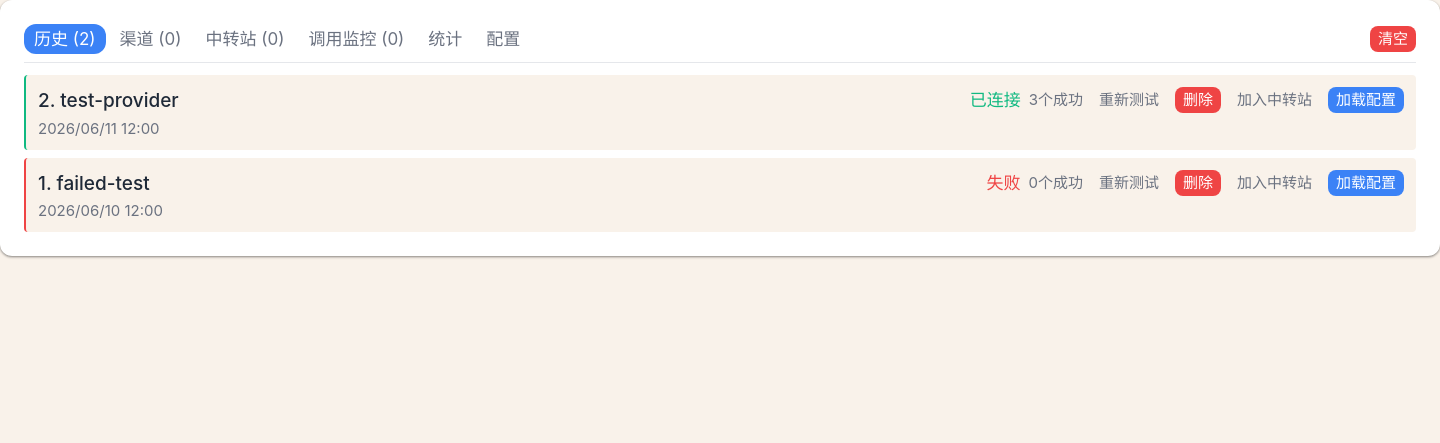
HistoryPanel › switches to the relay tab
Click the button "中转站 (0)" at {"x": 245, "y": 39}, box top-left (196, 24), bottom-right (294, 54)
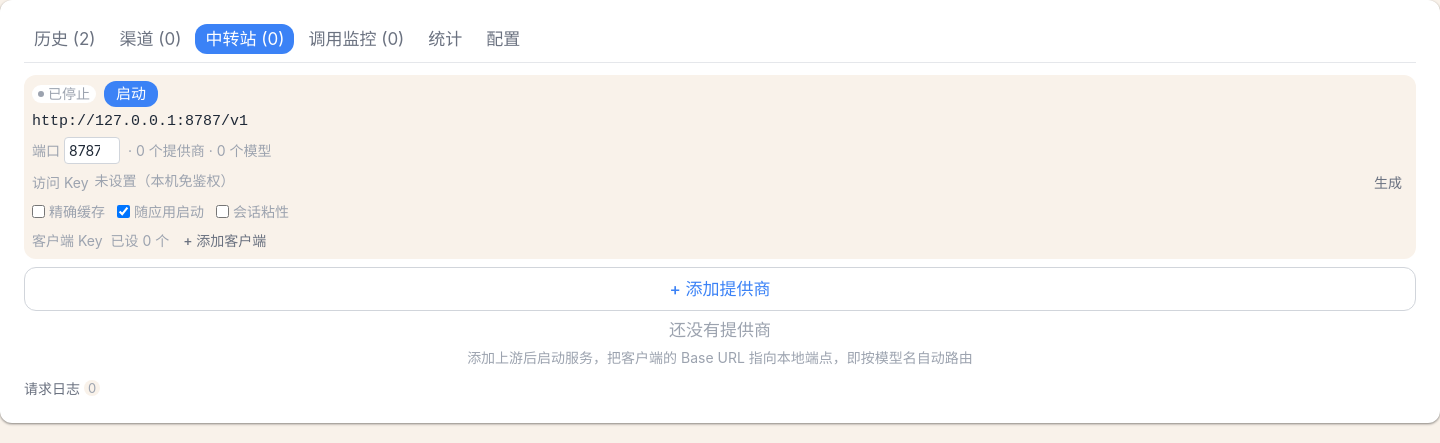
Expected: the text "添加提供商" is shown, top-left (670, 279), bottom-right (770, 299)
Expected: the text "已停止" is shown, top-left (32, 85), bottom-right (96, 103)
